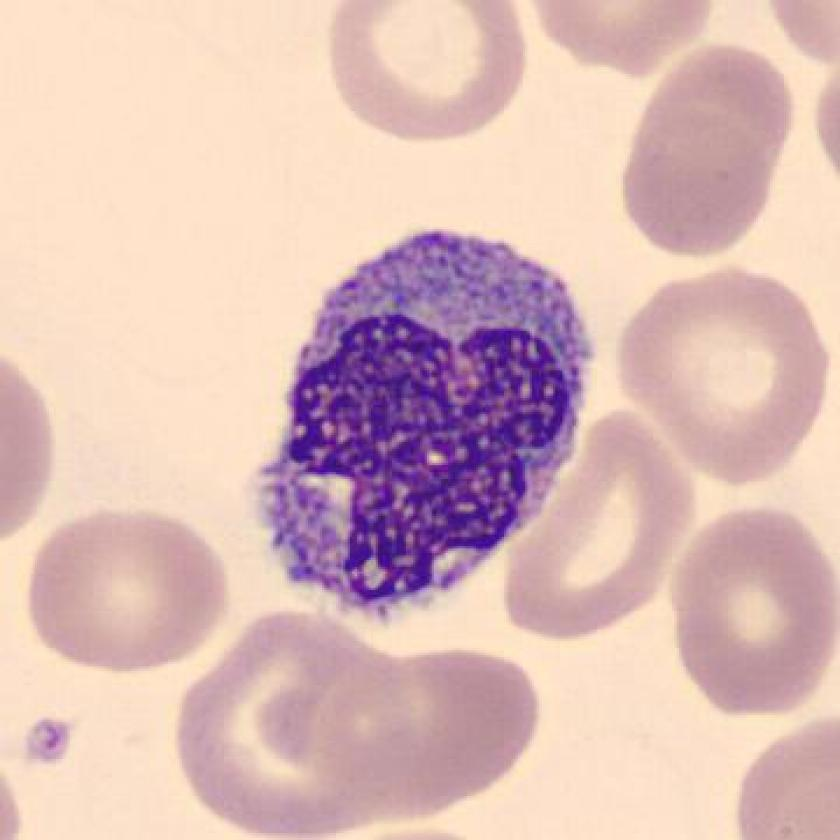monocyte: (242, 211, 613, 656)
